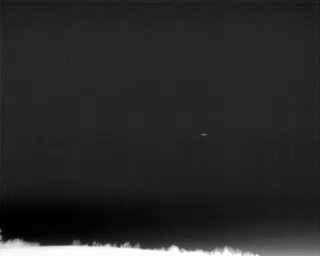BIRD: (200, 130, 209, 139)
